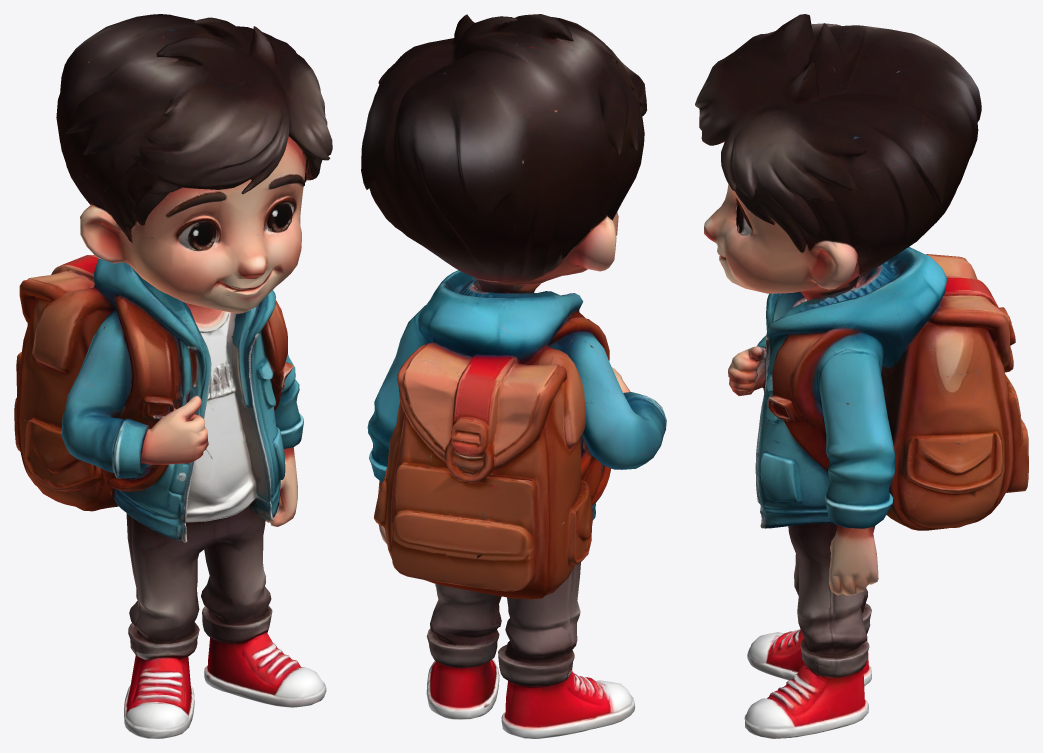
The model's file is little_backpacker.glb.
The picture shows the model from 3 angles, left to right: view 1: azimuth 30°, elevation 25°; view 2: azimuth 150°, elevation 25°; view 3: azimuth 270°, elevation 25°; orthographic projection. The views are drawn at different scales.
Bounding box in the file's own units: 0.7577 × 1.9 × 0.8602.
Materials: 1 (1 with a texture image).
